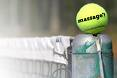tennis ball: (75, 2, 112, 35)
